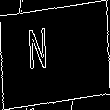N_S: (45, 28, 65, 82)
